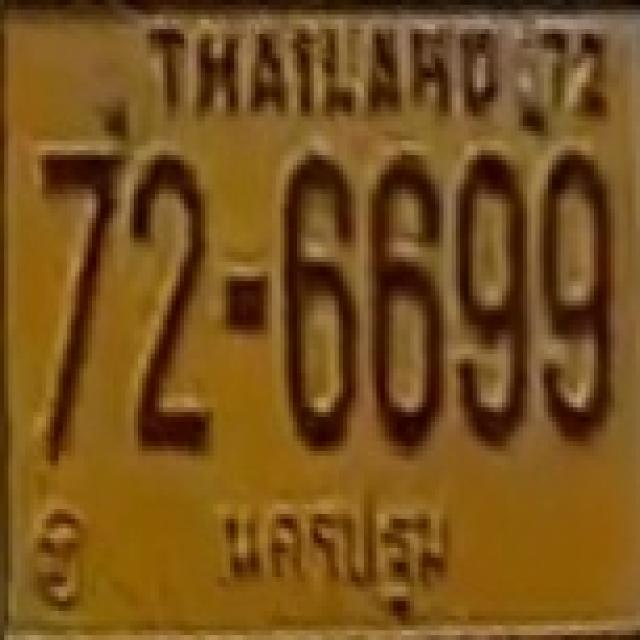2: (132, 148, 215, 448)
6: (276, 144, 367, 454), (370, 144, 448, 458)
7: (40, 150, 113, 459)
9: (536, 146, 618, 442), (452, 148, 530, 446)
NPT: (207, 485, 461, 623)
